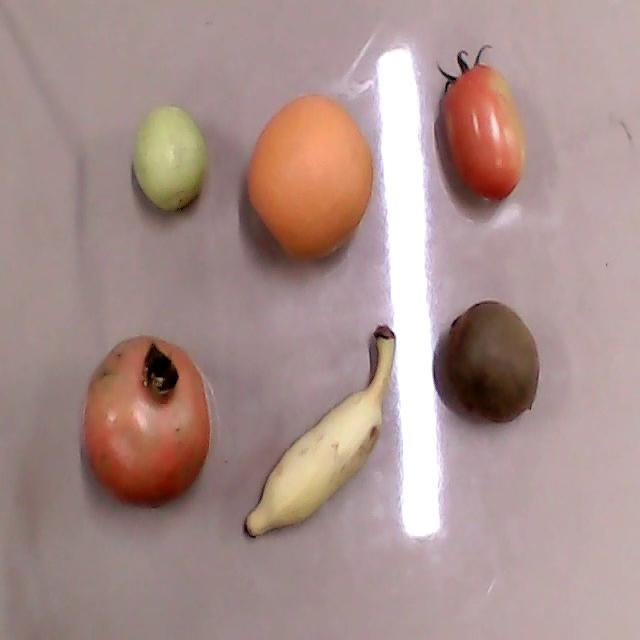kiwi: (443, 300, 540, 423)
lemon: (132, 106, 207, 210)
orange: (247, 95, 372, 259)
pomegranate: (81, 337, 211, 506)
tomato: (438, 44, 524, 199)
